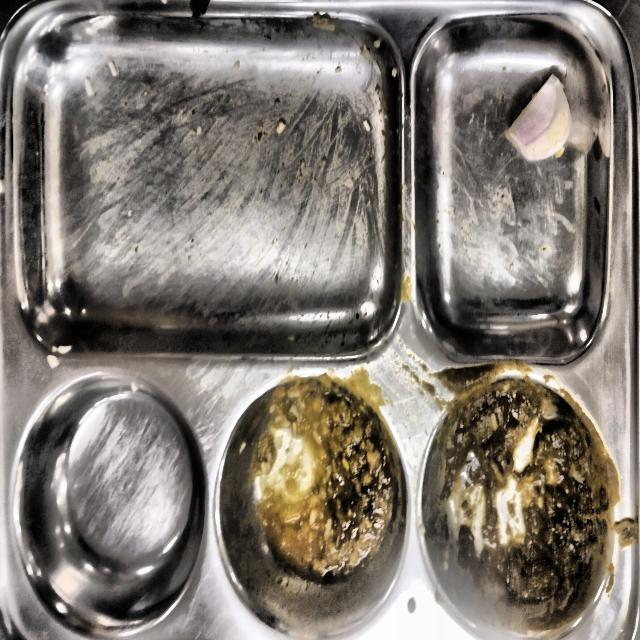Chilli-paneer: (251, 382, 397, 580)
Halwa: (425, 392, 619, 636)
Salad-Chukundar: (506, 75, 571, 161)
